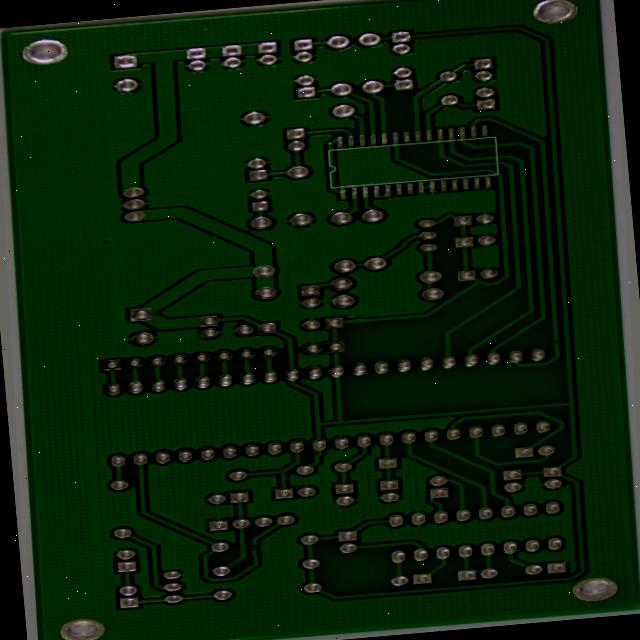open_circuit: (250, 543, 266, 555), (231, 559, 244, 568), (557, 333, 571, 341)
